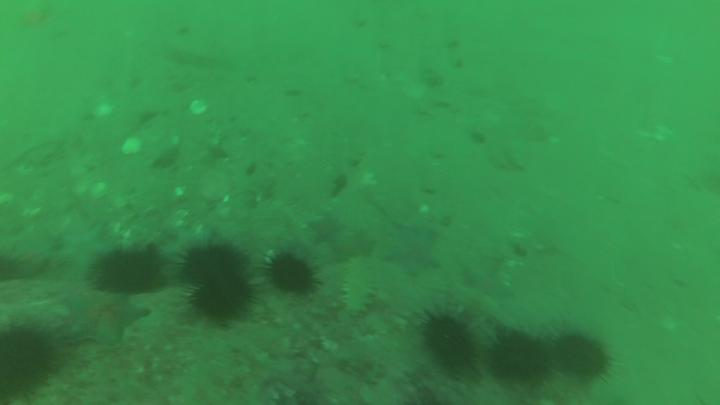echinus: (1, 326, 54, 402), (492, 331, 550, 387), (423, 314, 476, 372), (92, 251, 163, 292), (552, 333, 611, 381), (184, 246, 248, 286), (193, 282, 249, 323), (270, 255, 316, 293)
holothurian: (343, 256, 377, 314)
starfish: (57, 289, 150, 344), (387, 228, 443, 278), (459, 258, 514, 304), (311, 211, 346, 243), (340, 232, 376, 258)
